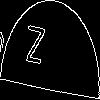Z: (25, 24, 45, 75)
